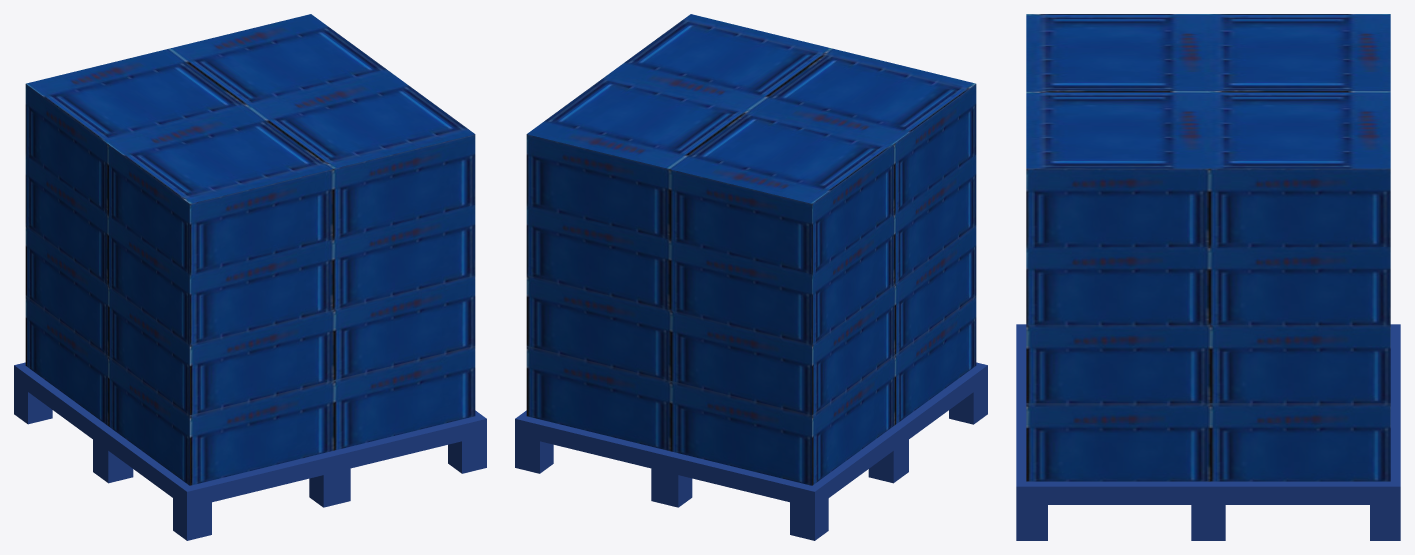
Rendered from wuliao_01.fbx.
The picture shows the model from 3 angles, left to right: view 1: azimuth 30°, elevation 25°; view 2: azimuth 150°, elevation 25°; view 3: azimuth 270°, elevation 25°; orthographic projection. The views are drawn at different scales.
Parts seen in each view (by area): view 1: Box001; view 2: Box001; view 3: Box001.
Part boxes in pixels (x1=…): Box001: x1=14, y1=14, x2=486, y2=540; Box001: x1=515, y1=14, x2=987, y2=540; Box001: x1=1016, y1=14, x2=1400, y2=540.
Size of the model in its own units: 78.74 by 83.37 by 78.74.
Materials: 2 (2 with a texture image).
